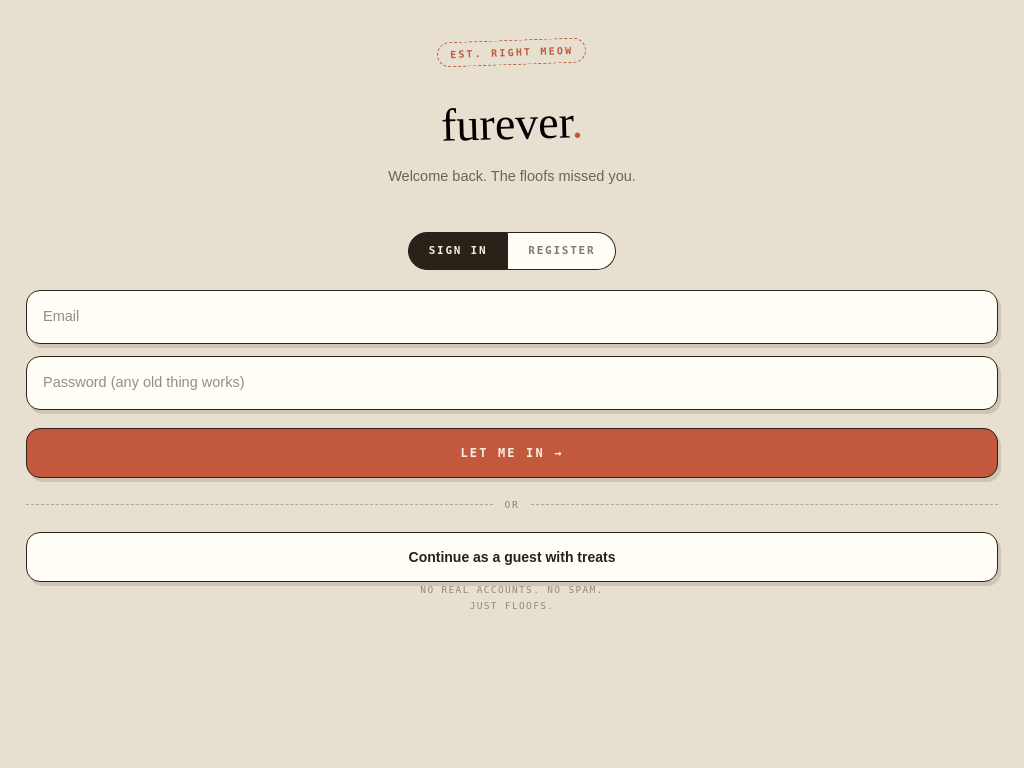
Scenario: Login › hides the name field in signin mode and shows it in register mode
Expected: the field with placeholder "your name" is not shown
Step 1. Click the button "REGISTER" → {"x": 562, "y": 251}, box [508,232,616,270]
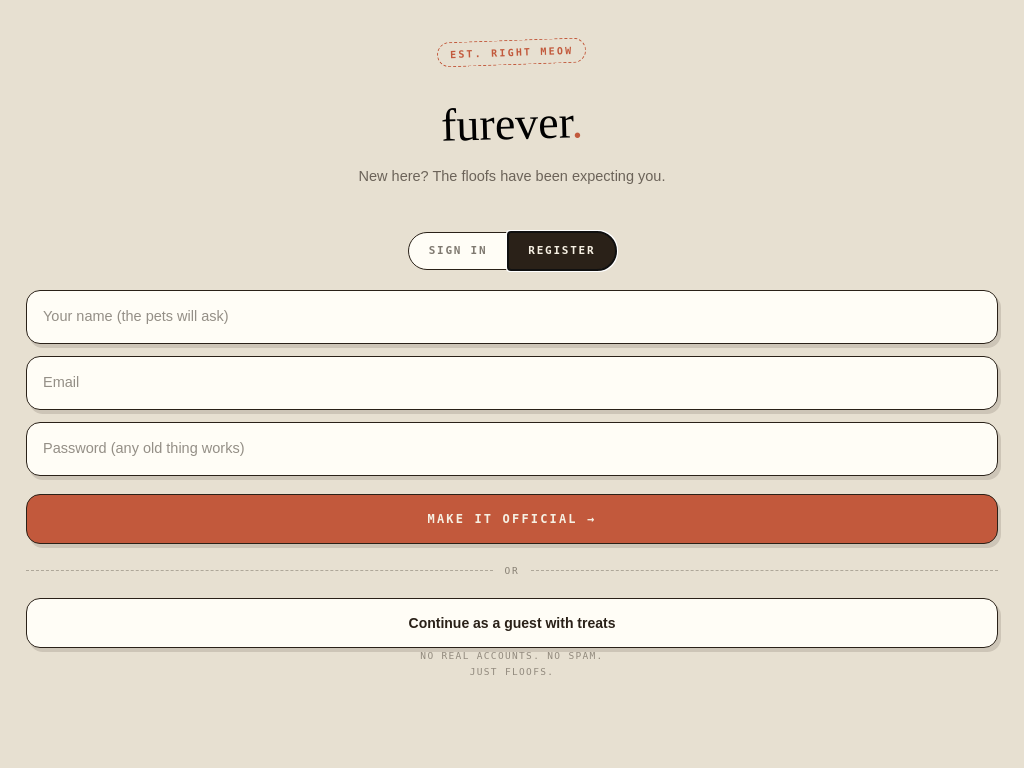
Result: the field with placeholder "Your name (the pets will ask)" is shown at [26,290,998,344]
